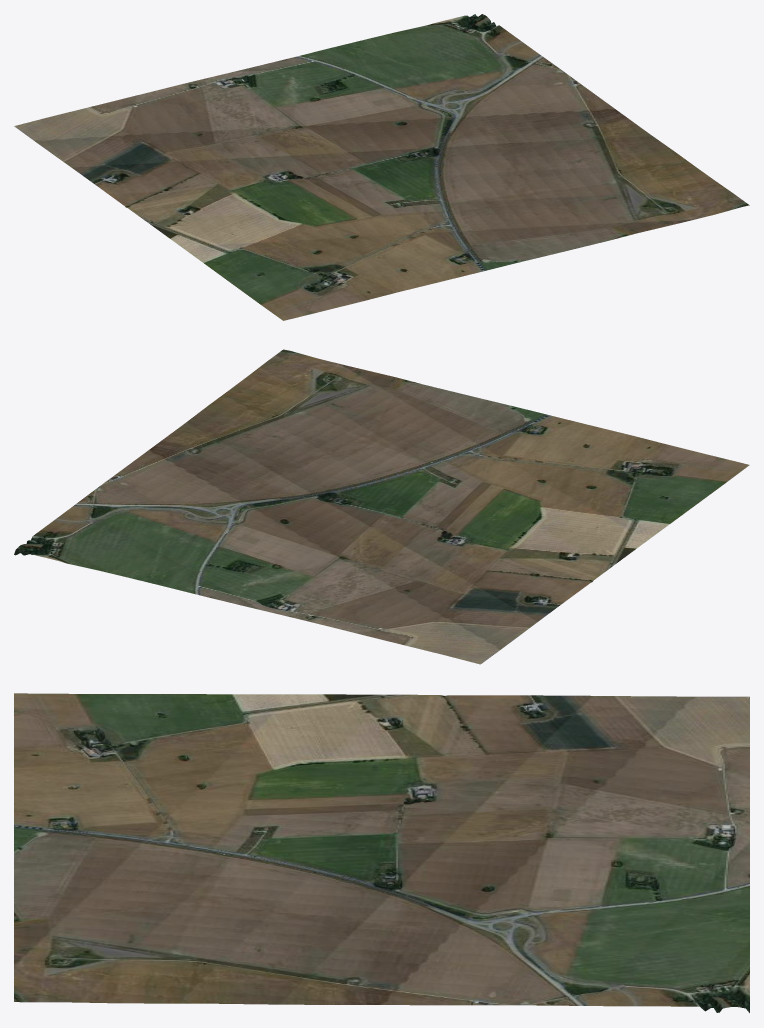
The model's file is map_10_255_429.dae.
3 views of the same model, one above another, from view 1: azimuth 30°, elevation 25°; view 2: azimuth 150°, elevation 25°; view 3: azimuth 270°, elevation 25° (orthographic). The views are drawn at different scales.
Visible parts, largest first — view 1: Ter0; view 2: Ter0; view 3: Ter0.
Part boxes in pixels (x1,y1,x2,y2): Ter0: (14,14,749,320); Ter0: (14,349,749,664); Ter0: (14,693,749,1012).
Bounding box in the file's own units: 2044 × 2044 × 36.45.
3 materials, 3 textured.
